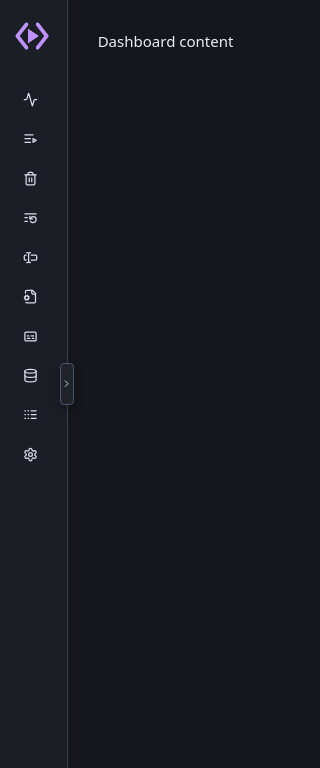
Scenario: shows a styled tooltip for collapsed sidebar links on hover and focus
Hover over the link named "Remove Tracks" at (33, 178), box [11,162,55,195]
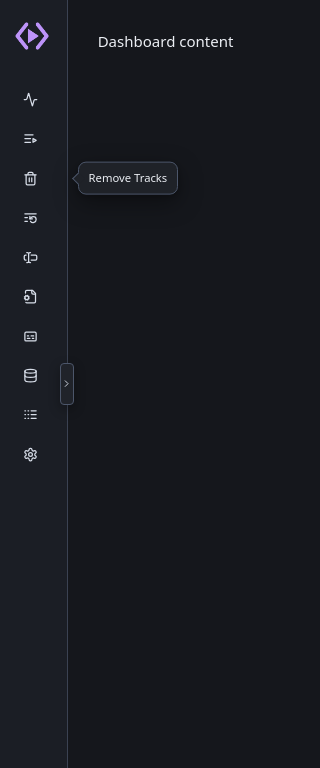
Expected: the tooltip reads "Remove Tracks", [89,170,167,185]
Move the pointer off the link named "Remove Tracks", box [11,162,55,195]
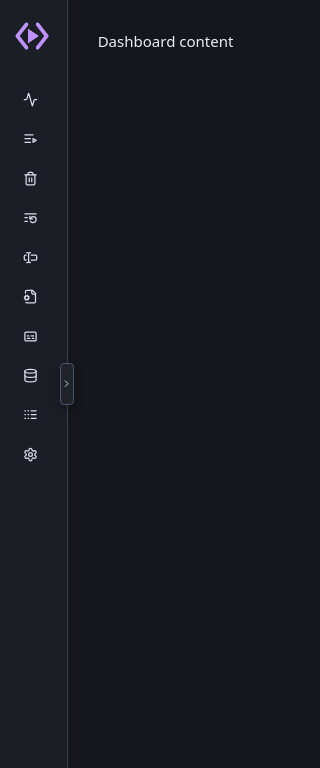
Focus the link named "Remove Tracks" at (33, 178), box [11,162,55,195]
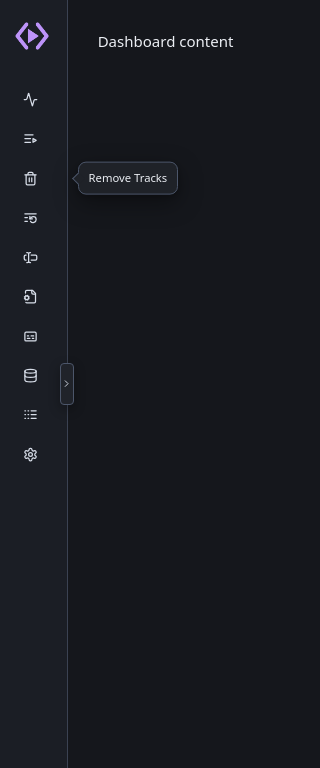
Expected: the tooltip reads "Remove Tracks", [89,170,167,185]
